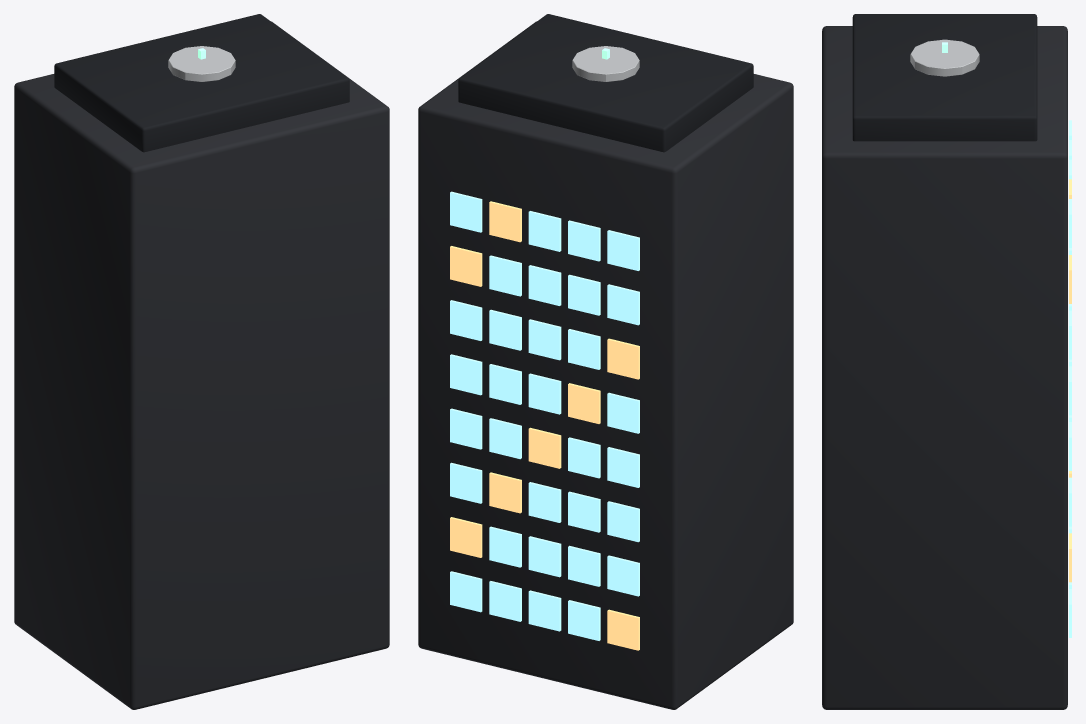
File: server_block.glb
3 views of the same model, side by side, from view 1: azimuth 30°, elevation 25°; view 2: azimuth 150°, elevation 25°; view 3: azimuth 270°, elevation 25° (orthographic). The views are drawn at different scales.
Visible parts, largest first — view 1: Server, Crown, Array; view 2: Server, Crown, Array, ServerW5_2, ServerW0_2, ServerW4_2, ServerW6_2, ServerW3_2, ServerW7_2, ServerW1_2, ServerW2_2, ServerW4_0 (+31 smaller); view 3: Server, Crown, Array.
Part boxes in pixels (box(x1,y1,x2,y2)): Server: box(14, 21, 389, 709); Crown: box(54, 14, 349, 152); Array: box(168, 46, 235, 81); Server: box(418, 21, 793, 709); Crown: box(458, 14, 753, 152); Array: box(572, 46, 639, 81); ServerW5_2: box(528, 319, 561, 360); ServerW0_2: box(528, 590, 561, 631); ServerW4_2: box(528, 373, 561, 414); ServerW6_2: box(528, 265, 561, 305); ServerW3_2: box(528, 427, 561, 468); ServerW7_2: box(528, 211, 561, 251); ServerW1_2: box(528, 536, 561, 577); ServerW2_2: box(528, 482, 561, 522); ServerW4_0: box(607, 392, 639, 433); Server: box(822, 26, 1067, 709); Crown: box(852, 14, 1037, 141); Array: box(910, 39, 979, 76).
Bounding box in the file's own units: 4 × 8.66 × 3.25.
